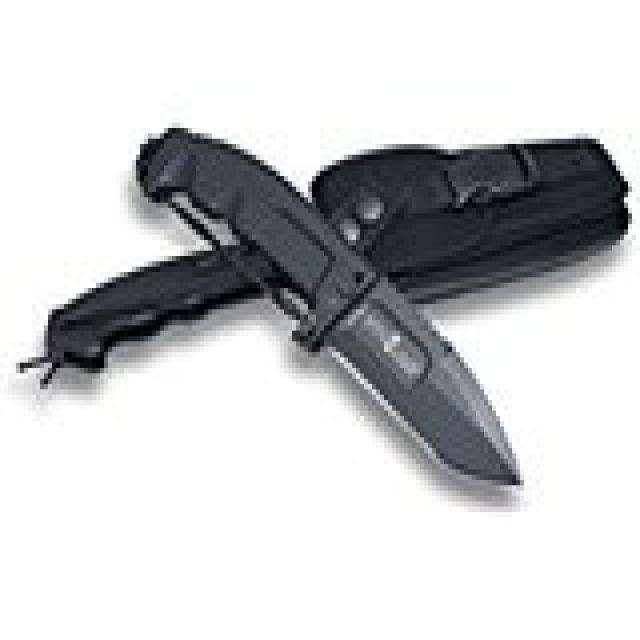Knife: (128, 120, 533, 496)
